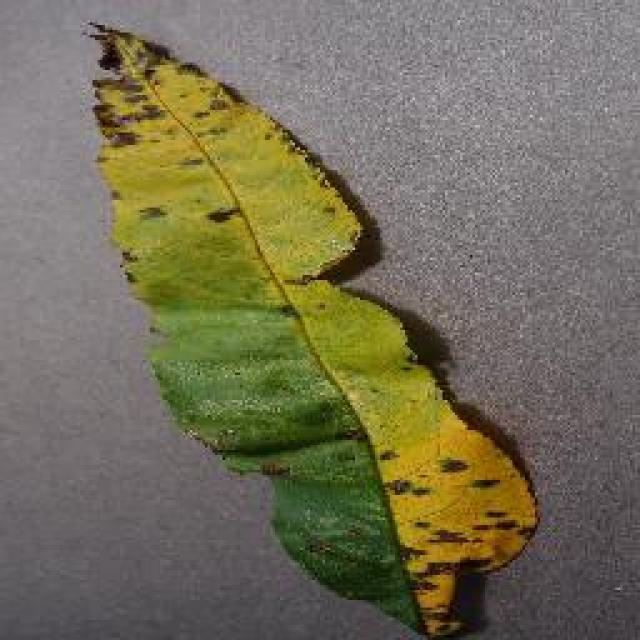Bacterial_spot: (76, 8, 546, 640)
